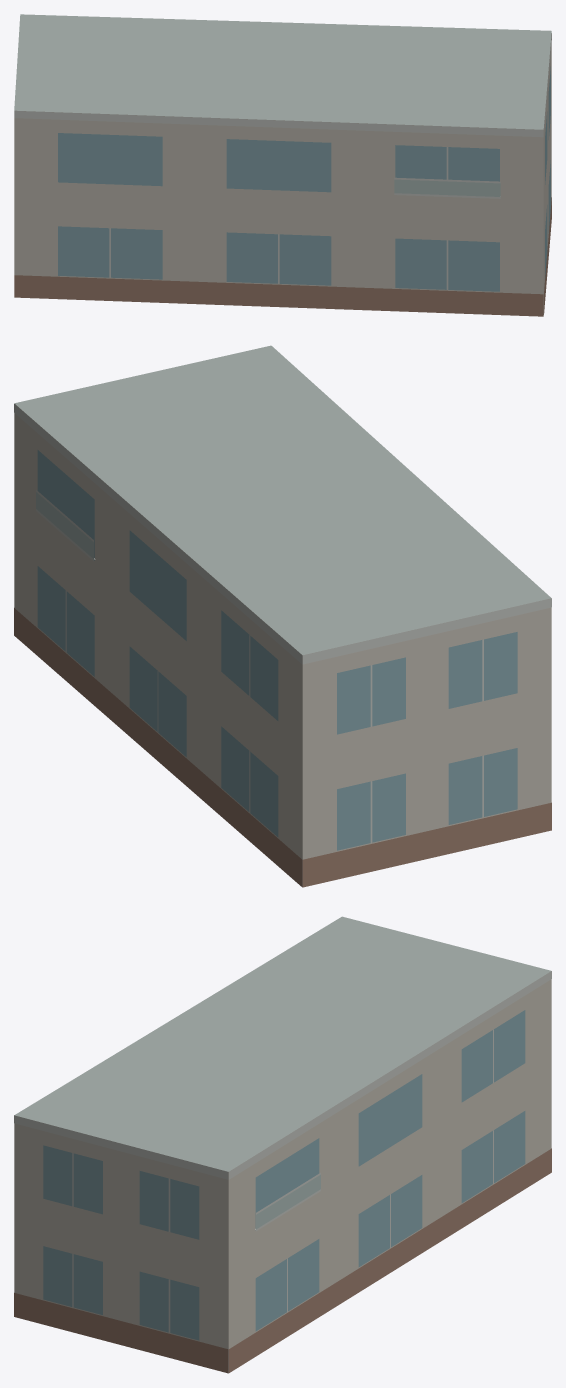
Rendered from survey-upis-32997663.glb.
3 renders of one model, top to bottom at view 1: azimuth 30°, elevation 25°; view 2: azimuth 150°, elevation 25°; view 3: azimuth 270°, elevation 25°, orthographic. The views are drawn at different scales.
Parts seen in each view (by area): view 1: survey-upis-32997663.tmp; view 2: survey-upis-32997663.tmp; view 3: survey-upis-32997663.tmp.
Part boxes in pixels (x1=…): survey-upis-32997663.tmp: x1=14, y1=14, x2=551, y2=316; survey-upis-32997663.tmp: x1=14, y1=345, x2=551, y2=887; survey-upis-32997663.tmp: x1=14, y1=916, x2=551, y2=1373.
Bounding box in the file's own units: 16.59 × 6.1 × 14.76.
